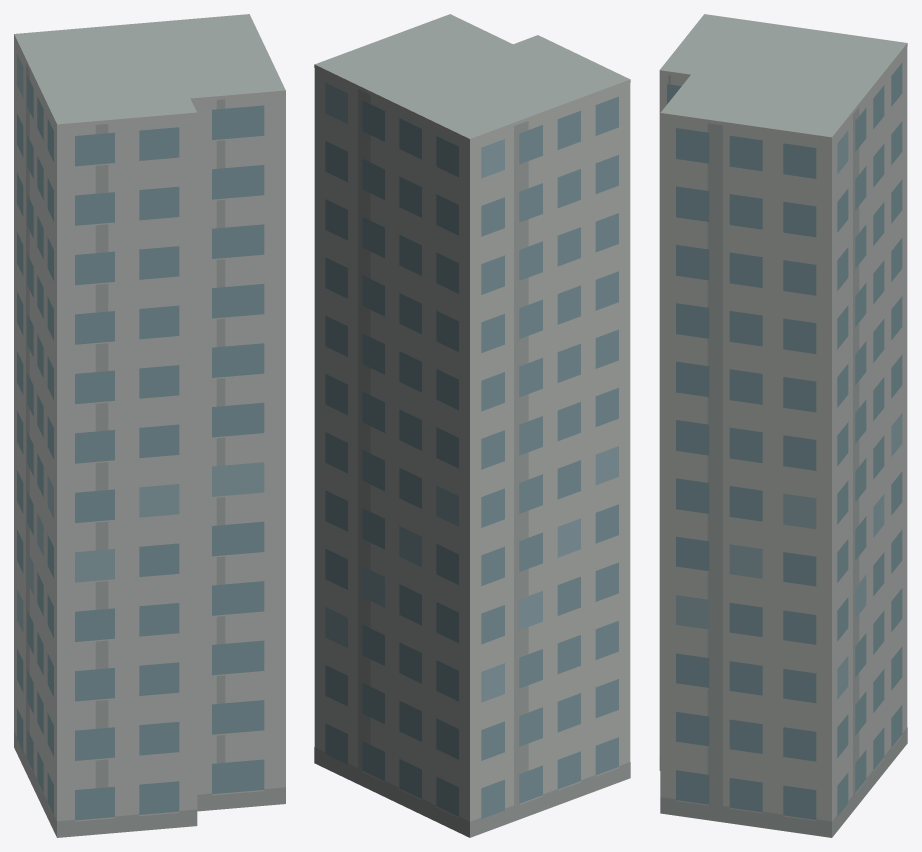
Rendered from residential-2bd92d30-e95c-480c-ab39-a422892954c2.glb.
3 renders of one model, left to right at view 1: azimuth 30°, elevation 25°; view 2: azimuth 150°, elevation 25°; view 3: azimuth 270°, elevation 25°, orthographic. The views are drawn at different scales.
Parts seen in each view (by area): view 1: residential-2bd92d30-e95c-480c-ab39-a422892954c2.tmp; view 2: residential-2bd92d30-e95c-480c-ab39-a422892954c2.tmp; view 3: residential-2bd92d30-e95c-480c-ab39-a422892954c2.tmp.
Part boxes in pixels (x1,y1,x2,y2): residential-2bd92d30-e95c-480c-ab39-a422892954c2.tmp: (14, 14, 285, 837); residential-2bd92d30-e95c-480c-ab39-a422892954c2.tmp: (314, 14, 630, 837); residential-2bd92d30-e95c-480c-ab39-a422892954c2.tmp: (659, 14, 907, 837).
Bounding box in the file's own units: 18.14 × 48 × 15.41.
